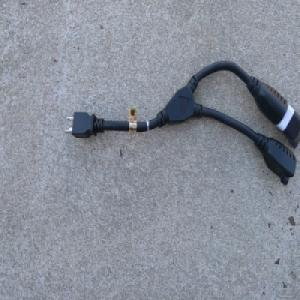Wire: (65, 57, 300, 186)
